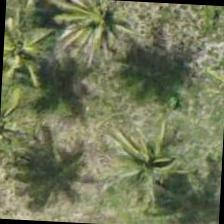Kelapa_Sawit: (101, 116, 196, 211), (51, 0, 145, 70), (0, 5, 66, 99)
